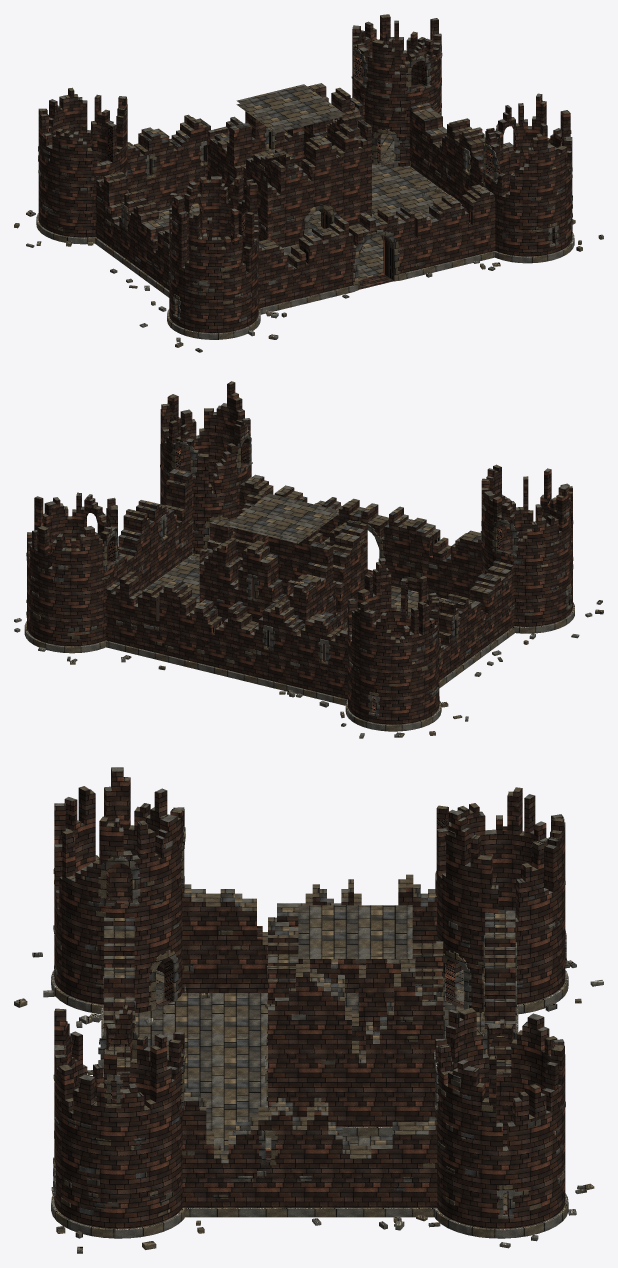
Rendered from dungeon_castle_ruin__v4.glb.
The picture shows the model from 3 angles, top to bottom: view 1: azimuth 30°, elevation 25°; view 2: azimuth 150°, elevation 25°; view 3: azimuth 270°, elevation 25°; orthographic projection. The views are drawn at different scales.
Visible parts, largest first — view 1: Procedural_Level_Castle; view 2: Procedural_Level_Castle; view 3: Procedural_Level_Castle.
Part boxes in pixels (x1,y1,x2,y2): Procedural_Level_Castle: (14, 14, 603, 352); Procedural_Level_Castle: (14, 381, 603, 738); Procedural_Level_Castle: (14, 767, 603, 1253).
Size of the model in its own units: 36.46 by 10.66 by 29.01.
2 materials, 2 textured.
